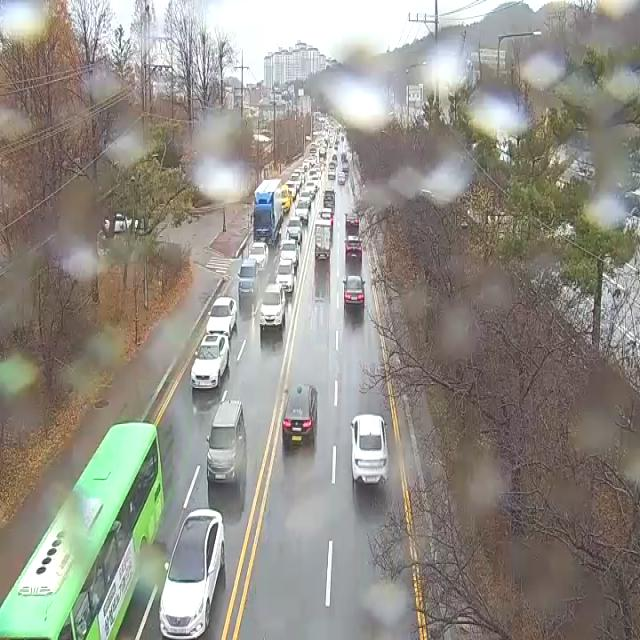Bus: (0, 421, 163, 640)
Car: (158, 508, 224, 640), (207, 401, 246, 482), (351, 415, 388, 485), (282, 385, 318, 445), (191, 332, 229, 388), (206, 297, 237, 339), (260, 283, 285, 328), (237, 259, 258, 296), (343, 276, 366, 306), (248, 242, 269, 272), (104, 214, 138, 232), (276, 259, 294, 293), (344, 236, 362, 263), (281, 240, 298, 266), (286, 217, 302, 244), (319, 212, 334, 234), (344, 212, 360, 229), (295, 202, 309, 220), (323, 189, 336, 207), (282, 185, 290, 212), (300, 191, 312, 207), (286, 182, 296, 199), (305, 182, 315, 198), (292, 173, 300, 190), (328, 168, 336, 180), (337, 172, 345, 184)
Truck: (250, 180, 282, 244), (314, 220, 331, 260)
